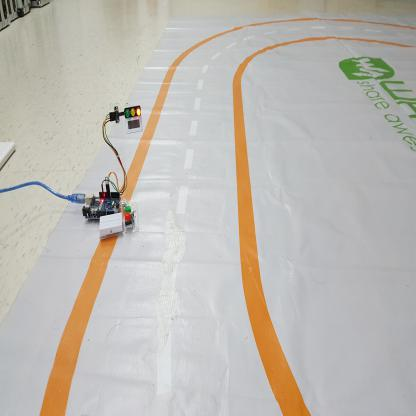traffic-light: (124, 105, 142, 121)
